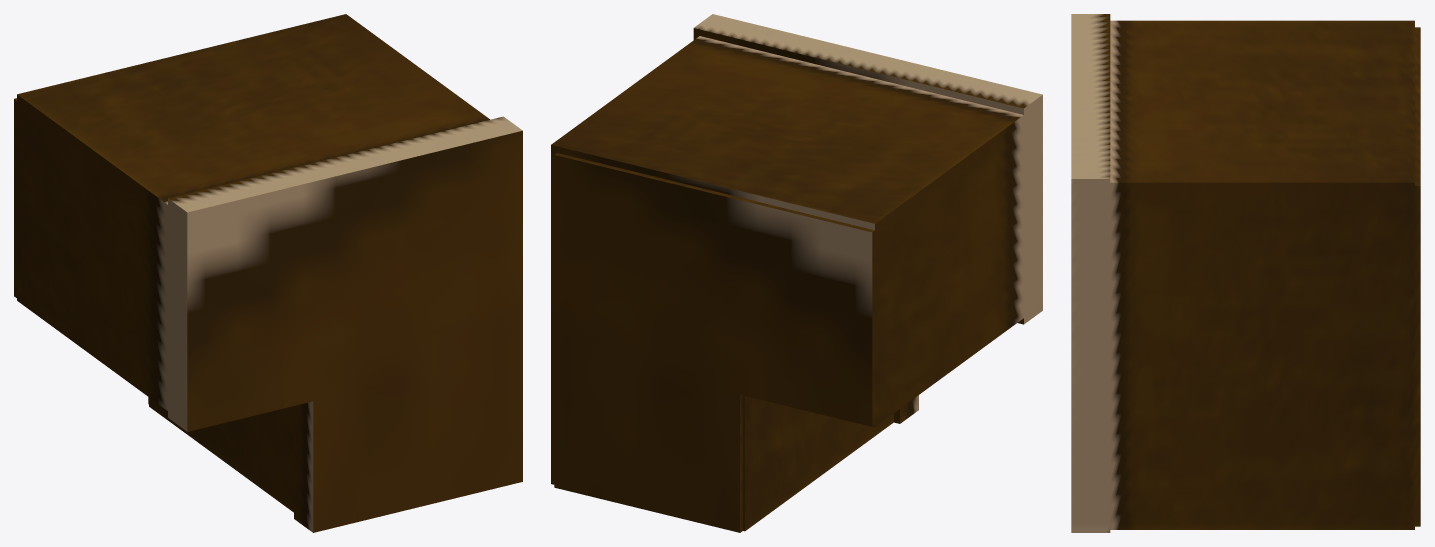
The model's file is pz_counter_modern_corner.obj.
The picture shows the model from 3 angles, left to right: view 1: azimuth 30°, elevation 25°; view 2: azimuth 150°, elevation 25°; view 3: azimuth 270°, elevation 25°; orthographic projection. The views are drawn at different scales.
Bounding box in the file's own units: 1 × 1 × 0.895.
1 material, 1 textured.
